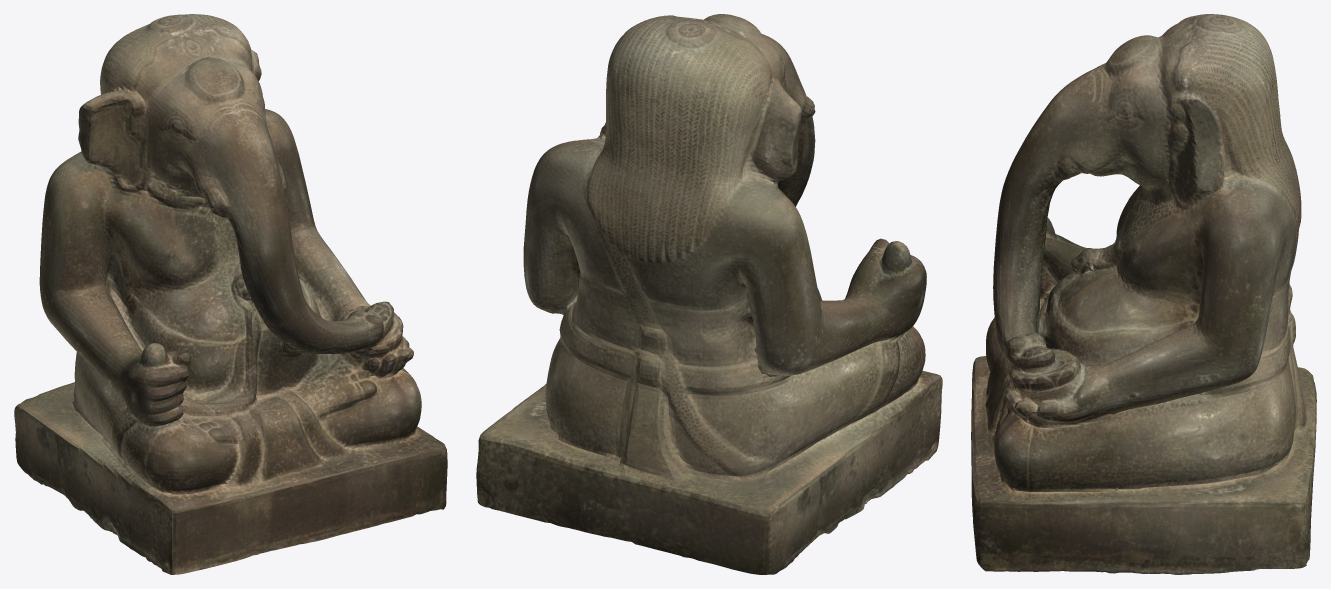
3 renders of one model, left to right at view 1: azimuth 30°, elevation 25°; view 2: azimuth 150°, elevation 25°; view 3: azimuth 270°, elevation 25°, orthographic. The views are drawn at different scales.
Bounding box in the file's own units: 0.41 × 0.6131 × 0.4064.
Materials: 1 (1 with a texture image).
